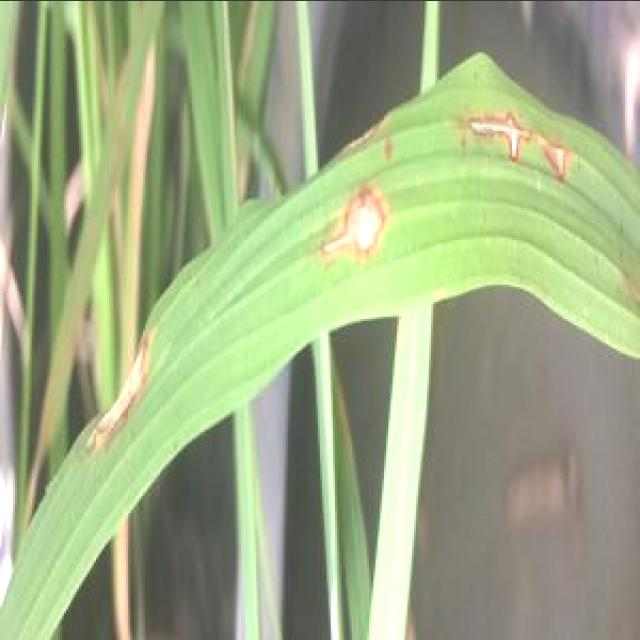Brown_Spot: (440, 113, 582, 187), (325, 180, 401, 269)
